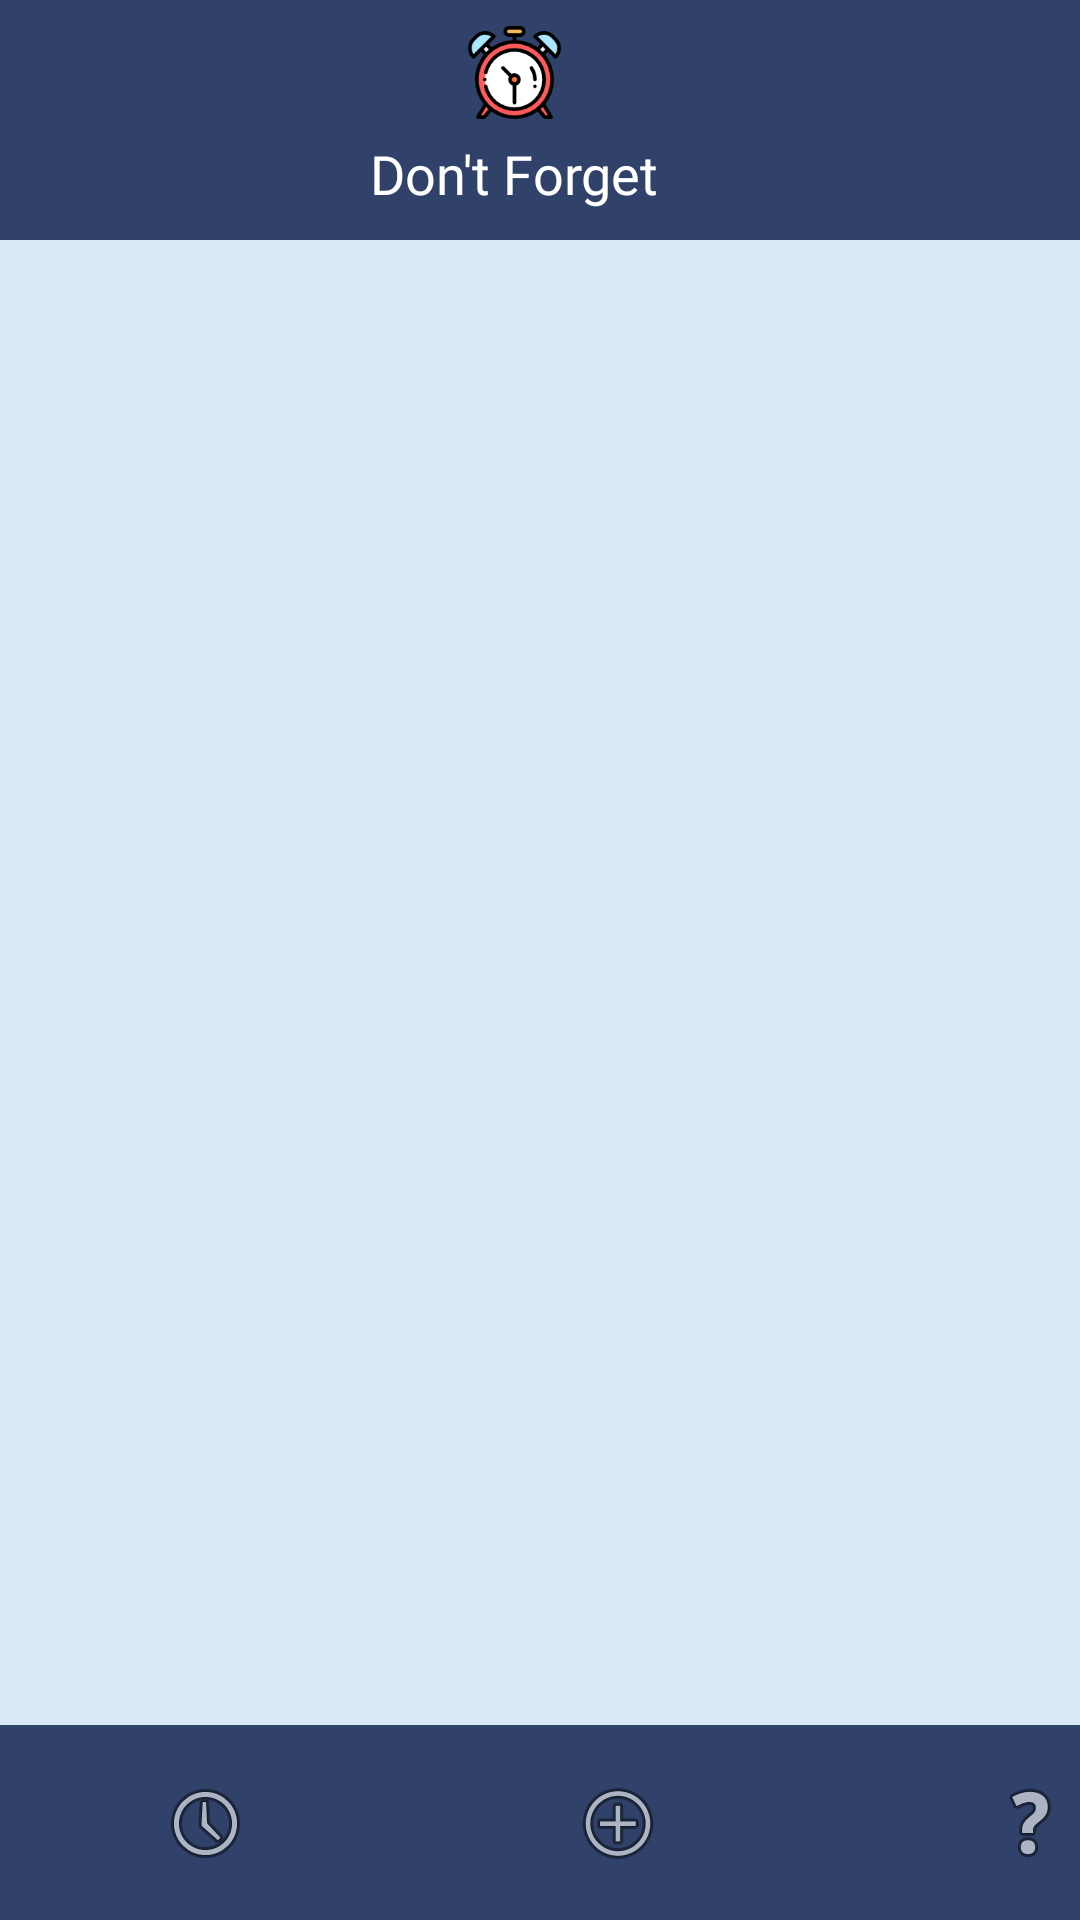

Named icons in this screenshot (1080 × 1920) and their centers, point (x, y):
add: point (618, 1823)
